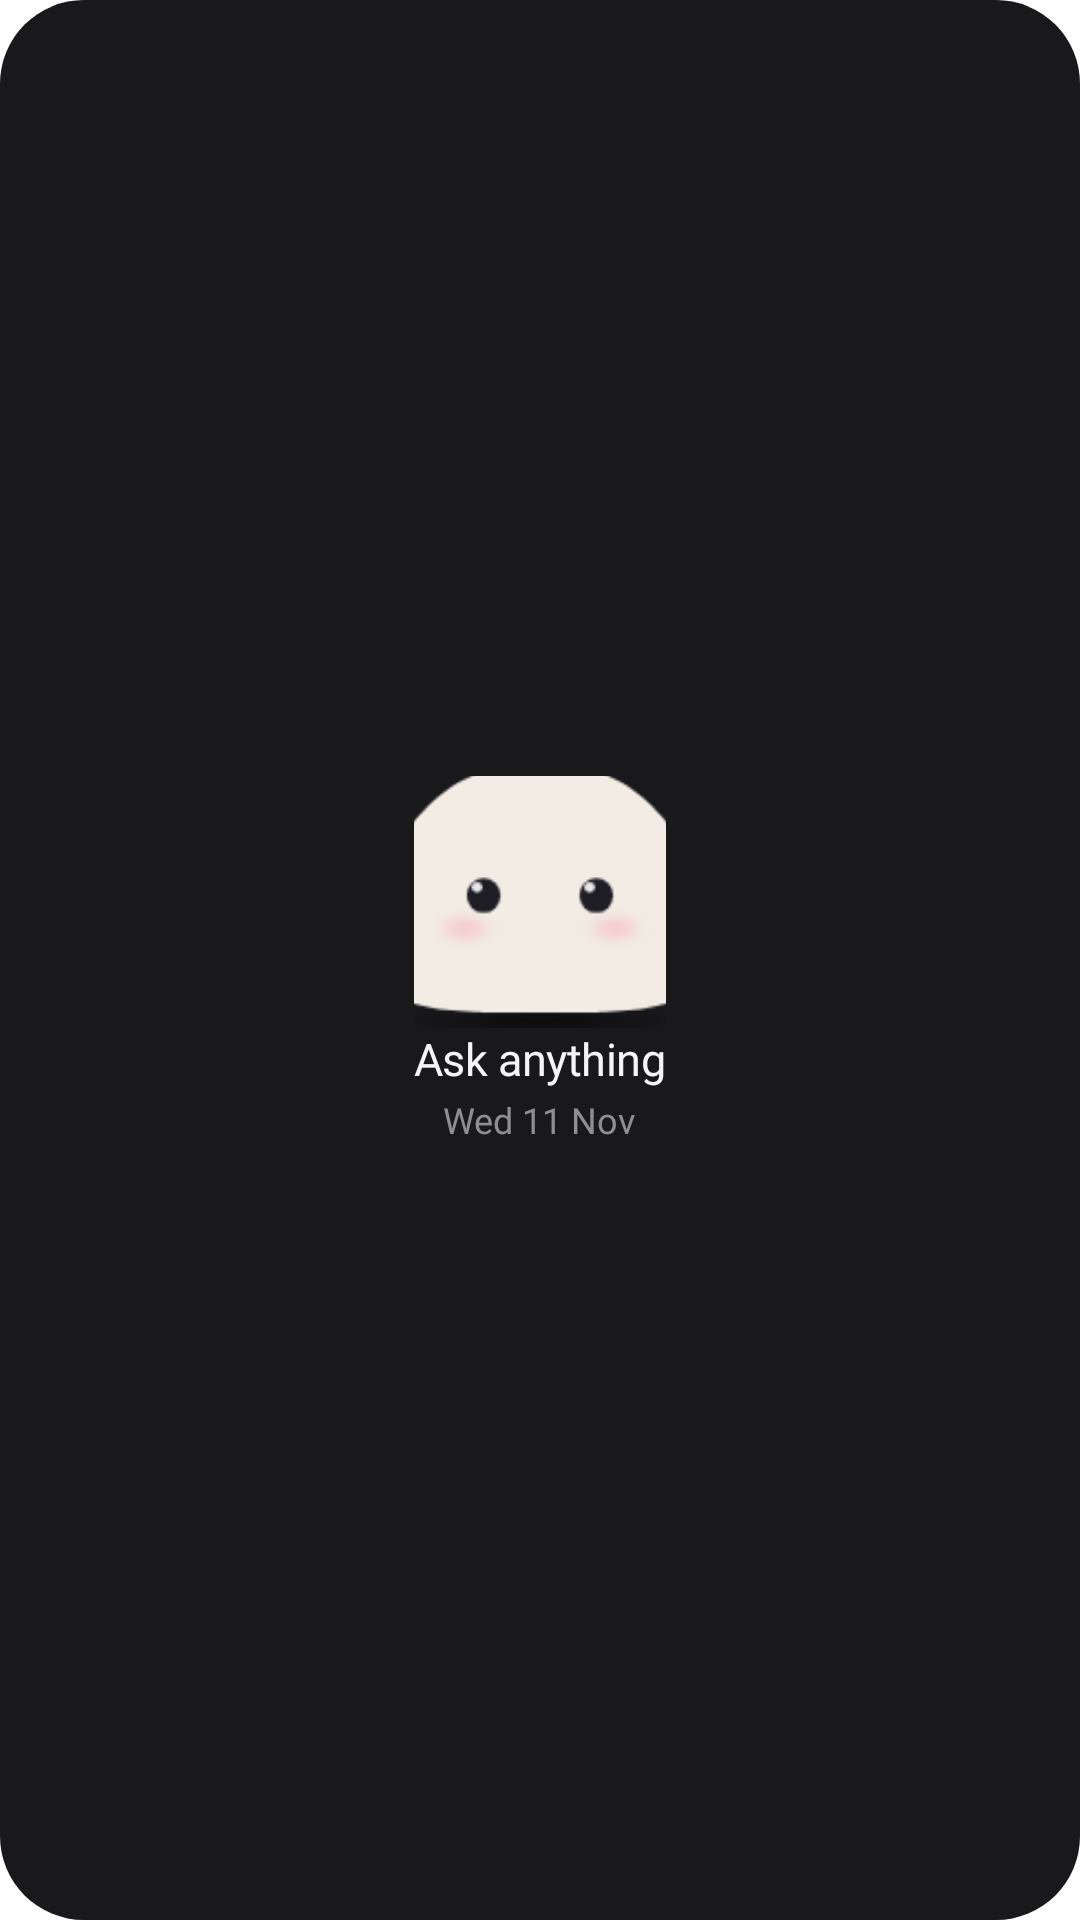

Icon click points for this 1080px x 1920px phone screenshot, format point (x, y):
widget blob: point (540, 894)
